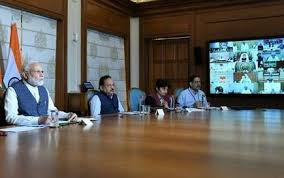Bad: (153, 75, 212, 114)
Caution: (2, 62, 123, 126), (90, 75, 176, 119)
